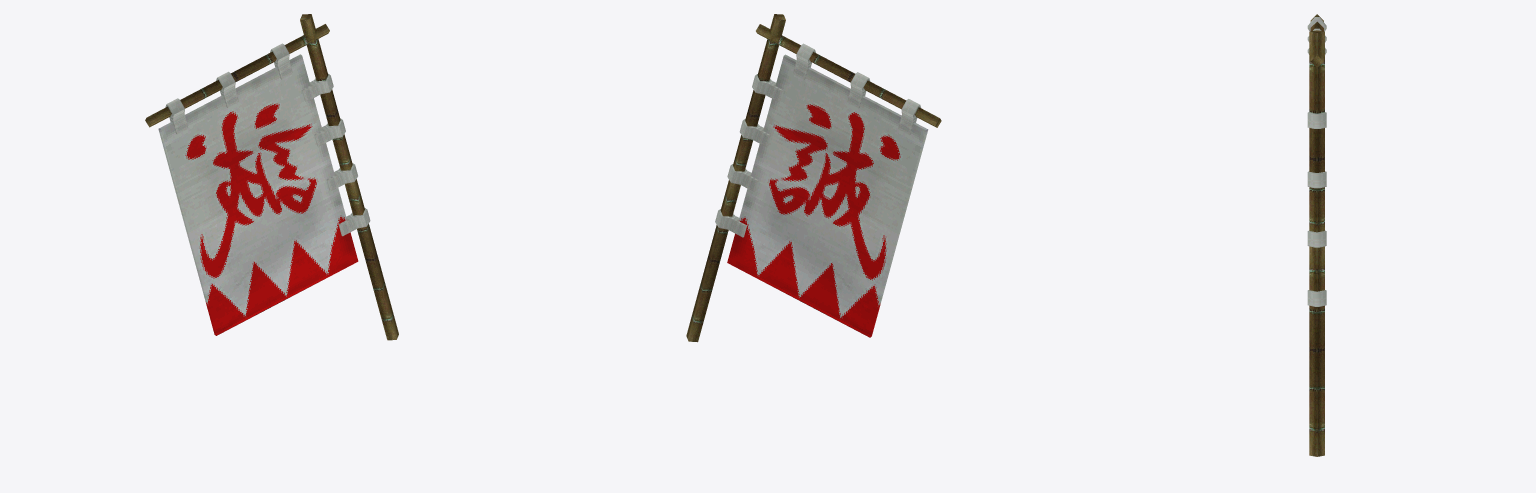
The model's file is ps2_save-icons_fuuunshinsengumi.glb.
3 views of the same model, side by side, from view 1: azimuth 30°, elevation 25°; view 2: azimuth 150°, elevation 25°; view 3: azimuth 270°, elevation 25° (orthographic). The views are drawn at different scales.
Visible parts, largest first — view 1: awabi.ico; view 2: awabi.ico; view 3: awabi.ico.
Boxes of the visible parts, box(x1,y1,x2,y2) form: awabi.ico: box(145, 14, 398, 340); awabi.ico: box(686, 14, 941, 342); awabi.ico: box(1307, 14, 1326, 456).
Bounding box in the file's own units: 4.88 × 4.91 × 4.88.
Materials: 1 (1 with a texture image).
